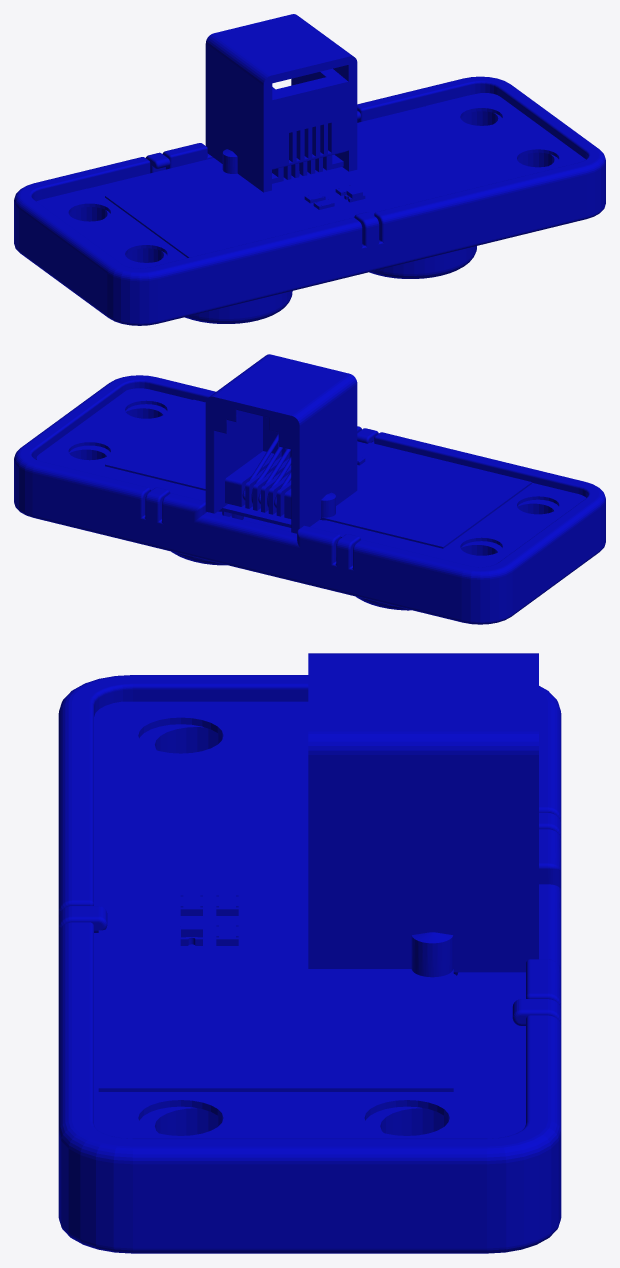
Rendered from Ultrasonic_Sensor.glb.
The picture shows the model from 3 angles, top to bottom: view 1: azimuth 30°, elevation 25°; view 2: azimuth 150°, elevation 25°; view 3: azimuth 270°, elevation 25°; orthographic projection. The views are drawn at different scales.
Visible parts, largest first — view 1: defaultobject.001; view 2: defaultobject.001; view 3: defaultobject.001.
Part boxes in pixels (box(x1,y1,x2,y2)): defaultobject.001: box(14, 14, 605, 325); defaultobject.001: box(14, 354, 605, 624); defaultobject.001: box(58, 653, 561, 1253).
Bounding box in the file's own units: 174 × 68.89 × 76.7.
